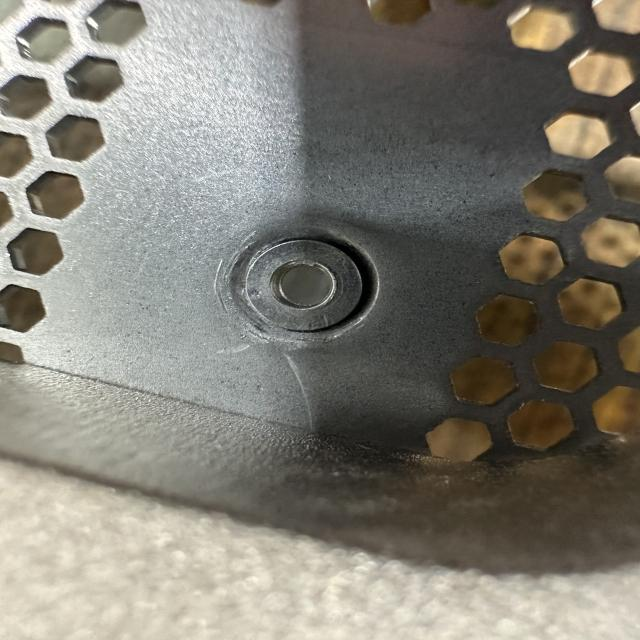Missing screw: (202, 215, 386, 361)
